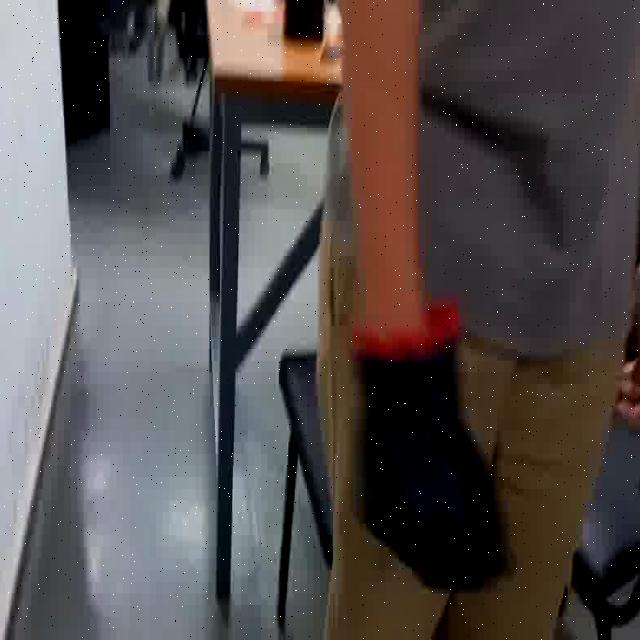Gloves: (342, 290, 522, 591)
